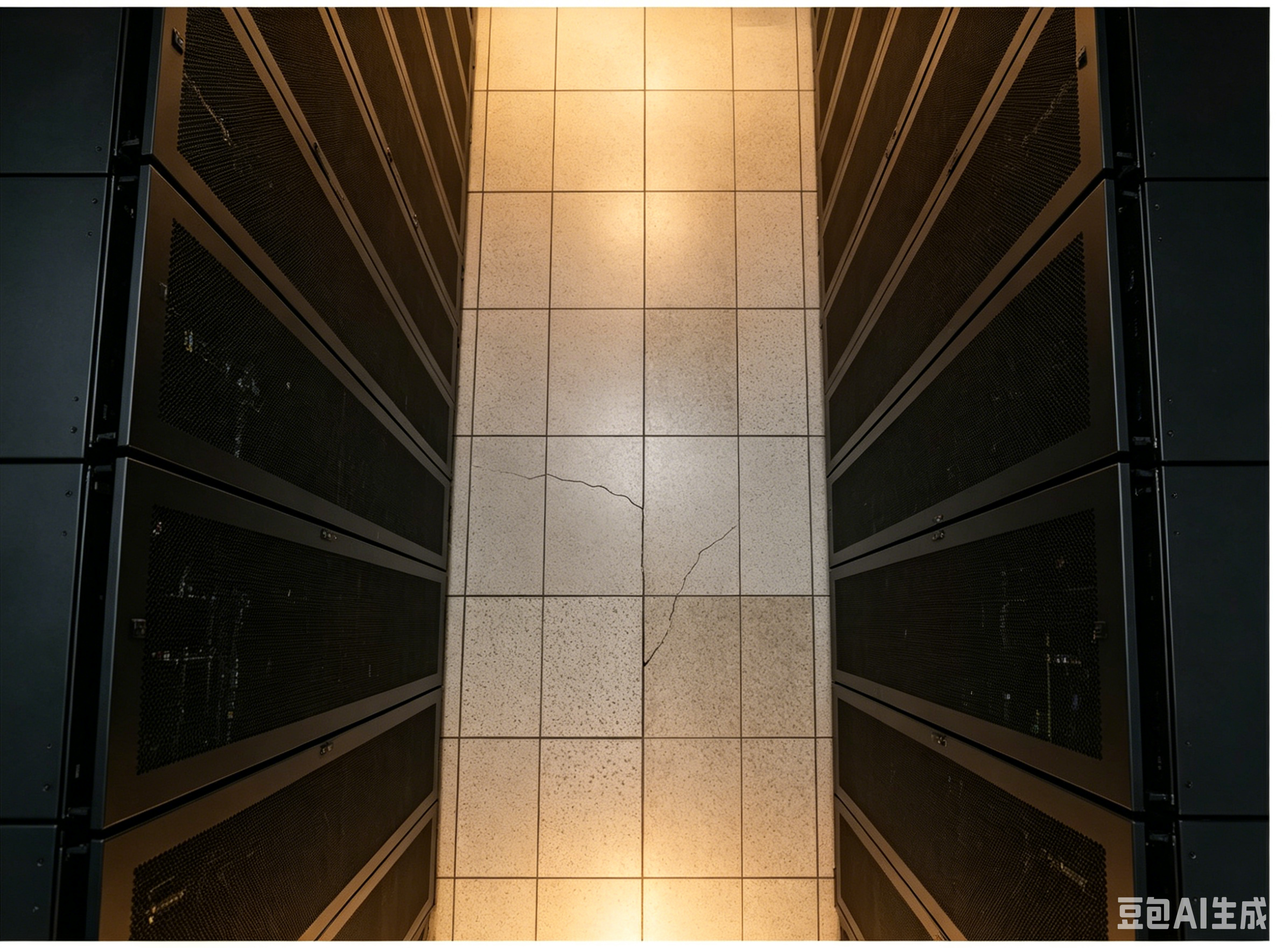floor_defect: (474, 459, 642, 510), (680, 503, 733, 591), (646, 589, 689, 665)
